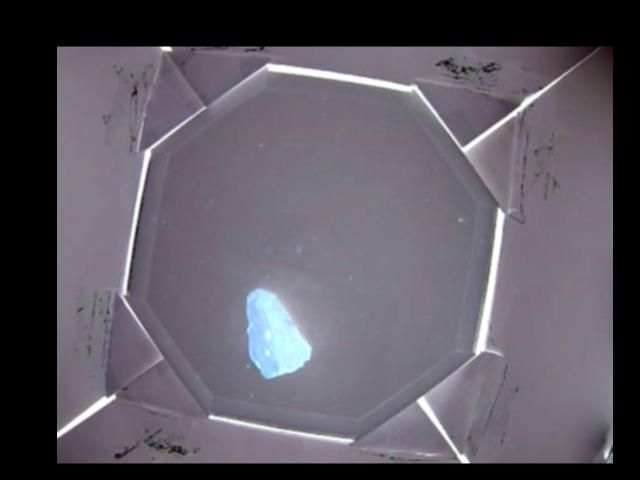Brisk: (248, 291, 311, 379)
